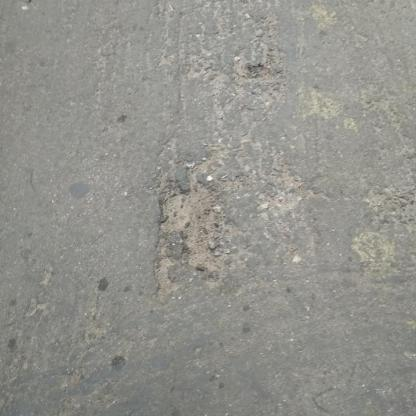pothole: (151, 180, 240, 292), (246, 63, 281, 83)
